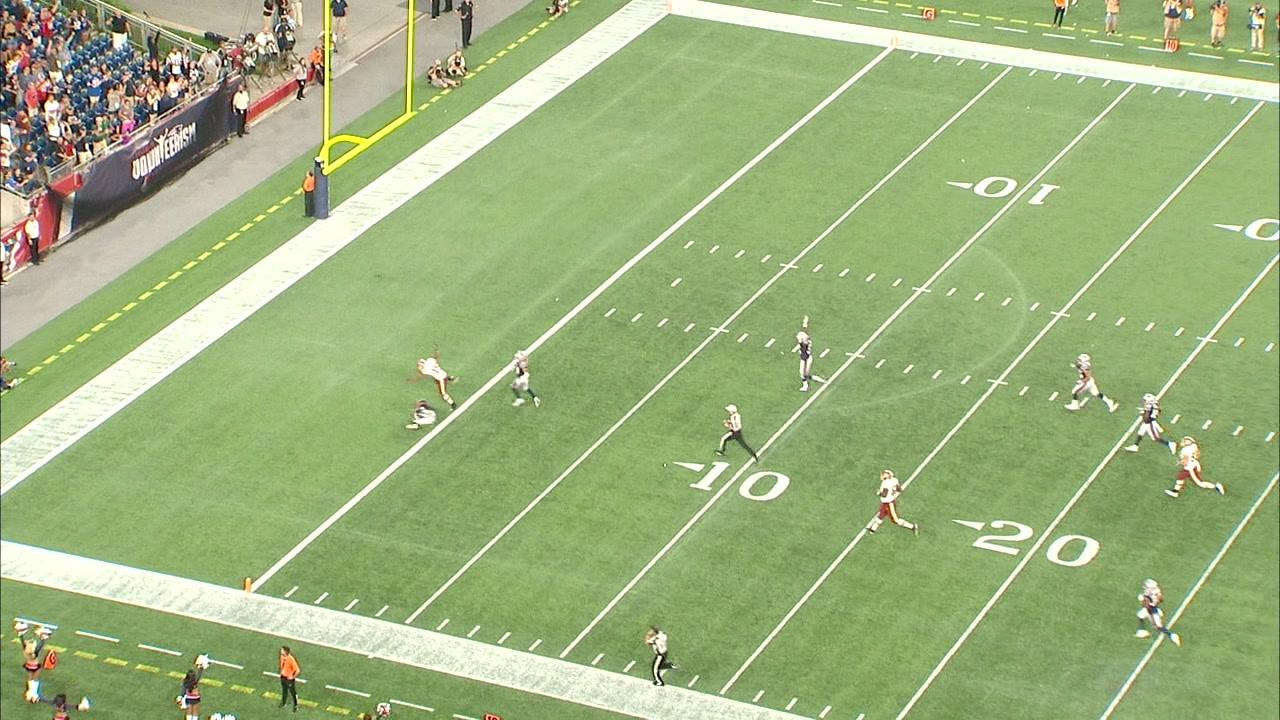five_hash: (987, 377, 1010, 386), (911, 285, 932, 294), (709, 326, 730, 334), (1196, 336, 1217, 344), (845, 352, 866, 359), (1050, 310, 1071, 317), (779, 262, 799, 269)
hash: (1017, 383, 1032, 398), (873, 356, 888, 371), (763, 335, 778, 350), (655, 315, 671, 329), (1172, 324, 1187, 338), (1168, 411, 1183, 425), (818, 346, 833, 360), (760, 251, 774, 265), (1143, 319, 1157, 333), (1201, 417, 1215, 431), (864, 270, 879, 283), (1113, 314, 1128, 327), (682, 320, 697, 333), (733, 247, 747, 260), (891, 275, 905, 288), (972, 289, 986, 302), (1231, 424, 1245, 437), (1047, 389, 1061, 402), (959, 373, 973, 386), (931, 367, 944, 381), (630, 311, 644, 324), (603, 306, 617, 319), (837, 266, 852, 278), (944, 286, 959, 298), (1028, 300, 1043, 312), (1001, 295, 1014, 308), (1264, 430, 1277, 443), (708, 243, 722, 255), (1232, 336, 1246, 348), (901, 363, 915, 375), (736, 331, 750, 343), (812, 261, 824, 273), (1086, 310, 1098, 322), (1264, 341, 1276, 353), (682, 239, 695, 250)
number: (972, 515, 1104, 574), (688, 455, 795, 508), (972, 171, 1063, 209)
player: (244, 577, 252, 592), (666, 0, 674, 13), (891, 35, 899, 47)
